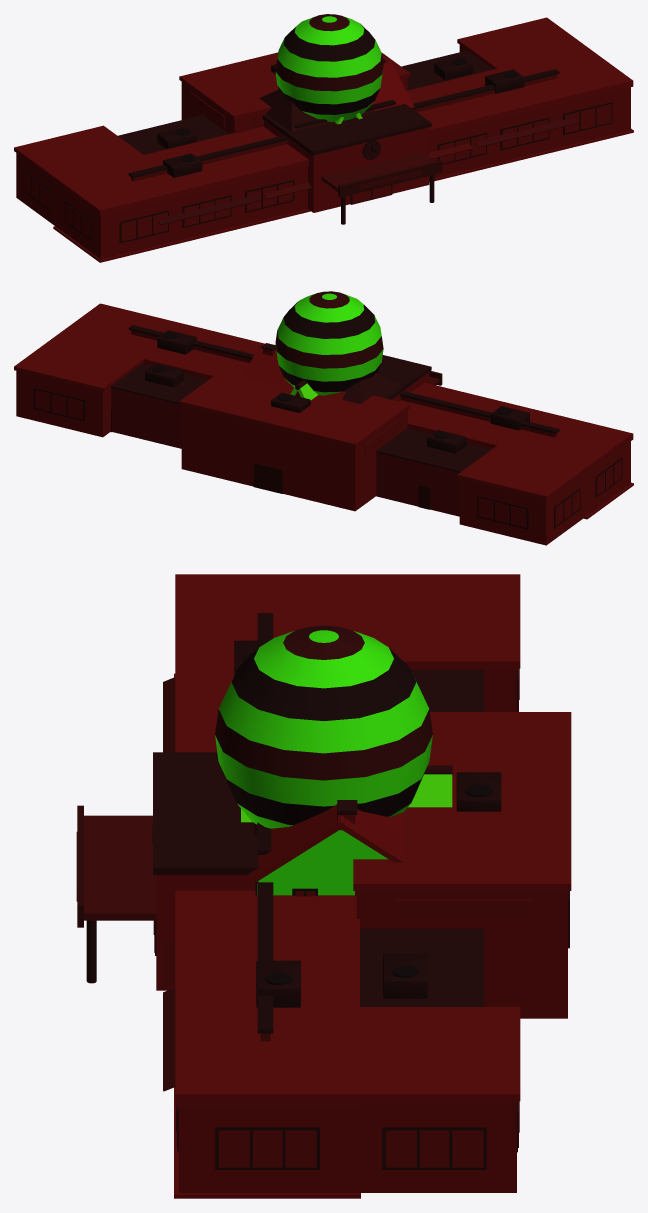
3 renders of one model, top to bottom at view 1: azimuth 30°, elevation 25°; view 2: azimuth 150°, elevation 25°; view 3: azimuth 270°, elevation 25°, orthographic. The views are drawn at different scales.
Parts seen in each view (by area): view 1: school_building, strip_mall, hot_air_balloon, house_c, house_e; view 2: school_building, strip_mall, hot_air_balloon, house_e, house_c; view 3: school_building, hot_air_balloon, strip_mall, house_e, house_b.
Part boxes in pixels (box(x1,y1,x2,y2)): school_building: box(14, 17, 633, 262); strip_mall: box(118, 50, 578, 225); hot_air_balloon: box(275, 14, 383, 122); house_c: box(259, 89, 374, 132); house_e: box(371, 58, 414, 111); school_building: box(14, 303, 633, 545); strip_mall: box(111, 325, 559, 516); hot_air_balloon: box(275, 291, 383, 395); house_e: box(243, 343, 345, 399); house_c: box(342, 373, 401, 404); school_building: box(76, 574, 571, 1198); hot_air_balloon: box(215, 625, 432, 828); strip_mall: box(163, 613, 484, 1091); house_e: box(247, 800, 403, 896); house_b: box(241, 765, 452, 822).
Size of what is drawn, in the model's own units: 55.4 by 15 by 22.23.
